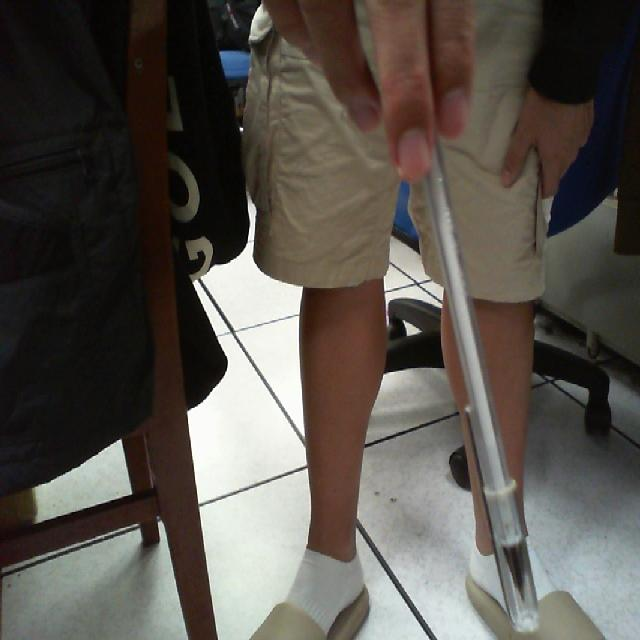Pen: (405, 102, 547, 640)
